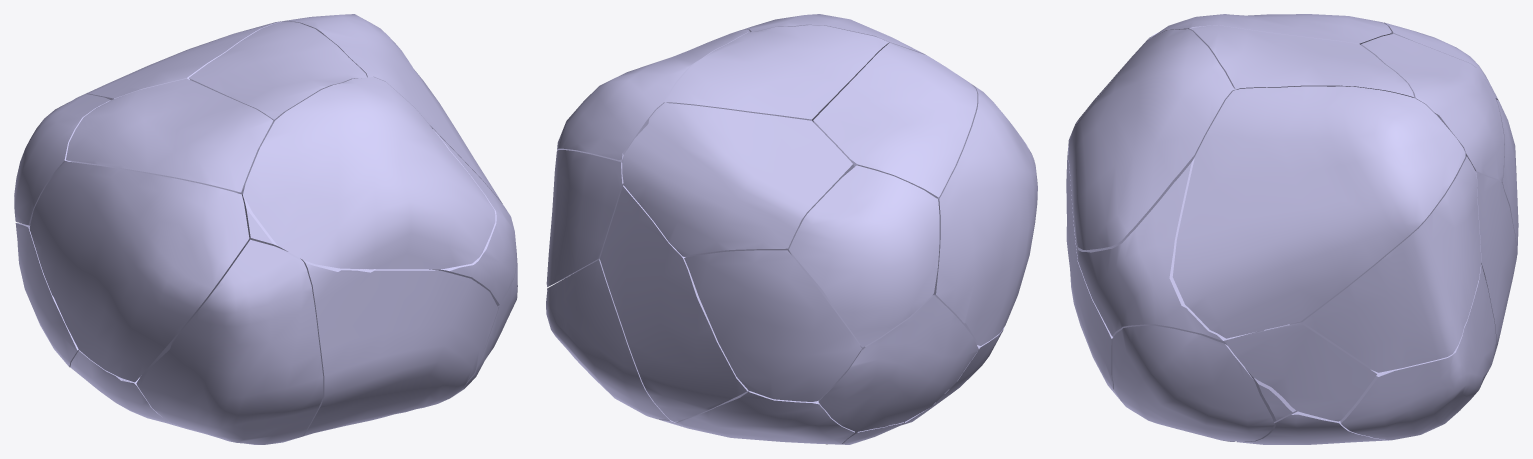
The model's file is SnowCliffsLargeStone5Destroyed.fbx.
3 views of the same model, side by side, from view 1: azimuth 30°, elevation 25°; view 2: azimuth 150°, elevation 25°; view 3: azimuth 270°, elevation 25° (orthographic). The views are drawn at different scales.
Visible parts, largest first — view 1: SnowCliffs_LargeStone_5_cell.003, SnowCliffs_LargeStone_5_cell.006, SnowCliffs_LargeStone_5_cell.014, SnowCliffs_LargeStone_5_cell.013, SnowCliffs_LargeStone_5_cell.024, SnowCliffs_LargeStone_5_cell.027, SnowCliffs_LargeStone_5_cell.021, SnowCliffs_LargeStone_5_cell.015, SnowCliffs_LargeStone_5_cell.007, SnowCliffs_LargeStone_5_cell.026, SnowCliffs_LargeStone_5_cell.023, SnowCliffs_LargeStone_5_cell.005 (+1 smaller); view 2: SnowCliffs_LargeStone_5_cell.026, SnowCliffs_LargeStone_5_cell.015, SnowCliffs_LargeStone_5_cell.006, SnowCliffs_LargeStone_5_cell.017, SnowCliffs_LargeStone_5_cell.001, SnowCliffs_LargeStone_5_cell.024, SnowCliffs_LargeStone_5_cell.027, SnowCliffs_LargeStone_5_cell.023, SnowCliffs_LargeStone_5_cell.012, SnowCliffs_LargeStone_5_cell.021, SnowCliffs_LargeStone_5_cell.018, SnowCliffs_LargeStone_5_cell.020 (+2 smaller); view 3: SnowCliffs_LargeStone_5_cell.021, SnowCliffs_LargeStone_5_cell.003, SnowCliffs_LargeStone_5_cell.018, SnowCliffs_LargeStone_5_cell.004, SnowCliffs_LargeStone_5_cell.007, SnowCliffs_LargeStone_5_cell.012, SnowCliffs_LargeStone_5_cell.027, SnowCliffs_LargeStone_5_cell.026, SnowCliffs_LargeStone_5_cell, SnowCliffs_LargeStone_5_cell.001, SnowCliffs_LargeStone_5_cell.024, SnowCliffs_LargeStone_5_cell.013 (+4 smaller).
Boxes of the visible parts, box(x1,y1,x2,y2) form: SnowCliffs_LargeStone_5_cell.003: box(243, 77, 495, 269); SnowCliffs_LargeStone_5_cell.006: box(29, 161, 249, 382); SnowCliffs_LargeStone_5_cell.014: box(136, 239, 323, 444); SnowCliffs_LargeStone_5_cell.013: box(300, 258, 497, 437); SnowCliffs_LargeStone_5_cell.024: box(66, 78, 273, 192); SnowCliffs_LargeStone_5_cell.027: box(189, 21, 367, 121); SnowCliffs_LargeStone_5_cell.021: box(282, 14, 502, 203); SnowCliffs_LargeStone_5_cell.015: box(14, 94, 110, 225); SnowCliffs_LargeStone_5_cell.007: box(236, 129, 516, 306); SnowCliffs_LargeStone_5_cell.026: box(86, 21, 281, 99); SnowCliffs_LargeStone_5_cell.023: box(15, 223, 78, 367); SnowCliffs_LargeStone_5_cell.005: box(70, 350, 181, 427); SnowCliffs_LargeStone_5_cell.026: box(622, 103, 854, 257); SnowCliffs_LargeStone_5_cell.015: box(789, 165, 939, 347); SnowCliffs_LargeStone_5_cell.006: box(932, 86, 1037, 345); SnowCliffs_LargeStone_5_cell.017: box(684, 250, 861, 401); SnowCliffs_LargeStone_5_cell.001: box(600, 185, 748, 421); SnowCliffs_LargeStone_5_cell.024: box(813, 42, 977, 197); SnowCliffs_LargeStone_5_cell.027: box(666, 25, 888, 122); SnowCliffs_LargeStone_5_cell.023: box(818, 295, 978, 431); SnowCliffs_LargeStone_5_cell.012: box(546, 259, 669, 420); SnowCliffs_LargeStone_5_cell.021: box(557, 29, 750, 162); SnowCliffs_LargeStone_5_cell.018: box(546, 150, 623, 287); SnowCliffs_LargeStone_5_cell.020: box(676, 390, 854, 444); SnowCliffs_LargeStone_5_cell.021: box(1172, 86, 1465, 338); SnowCliffs_LargeStone_5_cell.003: box(1068, 29, 1234, 250); SnowCliffs_LargeStone_5_cell.018: box(1289, 156, 1481, 372); SnowCliffs_LargeStone_5_cell.004: box(1112, 325, 1274, 441); SnowCliffs_LargeStone_5_cell.007: box(1074, 59, 1259, 345); SnowCliffs_LargeStone_5_cell.012: box(1340, 264, 1496, 440); SnowCliffs_LargeStone_5_cell.027: box(1189, 25, 1414, 97); SnowCliffs_LargeStone_5_cell.026: box(1360, 34, 1504, 181); SnowCliffs_LargeStone_5_cell: box(1226, 323, 1376, 421); SnowCliffs_LargeStone_5_cell.001: box(1476, 172, 1516, 352); SnowCliffs_LargeStone_5_cell.024: box(1143, 14, 1391, 44); SnowCliffs_LargeStone_5_cell.013: box(1067, 122, 1121, 401).
Bounding box in the file's own units: 65.19 × 54.51 × 63.47.
